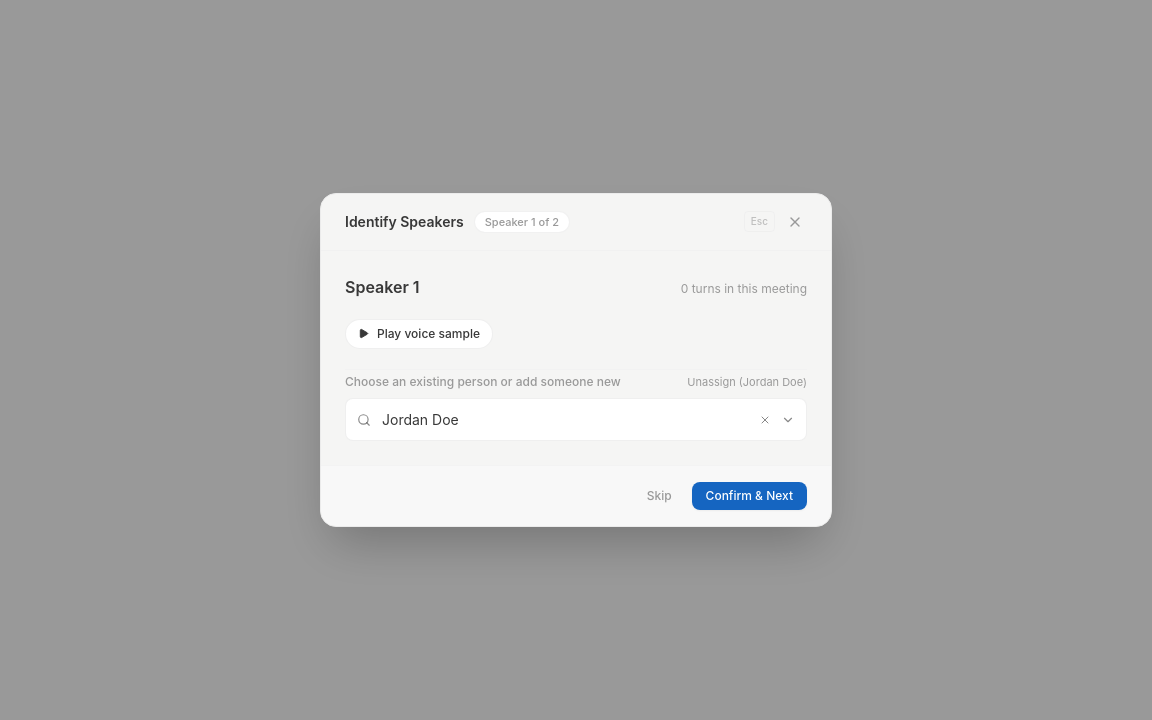
Scenario: SpeakerIdentificationModal › still explicitly confirms an automatic voice_match_strong_v1 assignment
Click the button "Confirm & Next" at (749, 496), box 692,482 -> 807,510
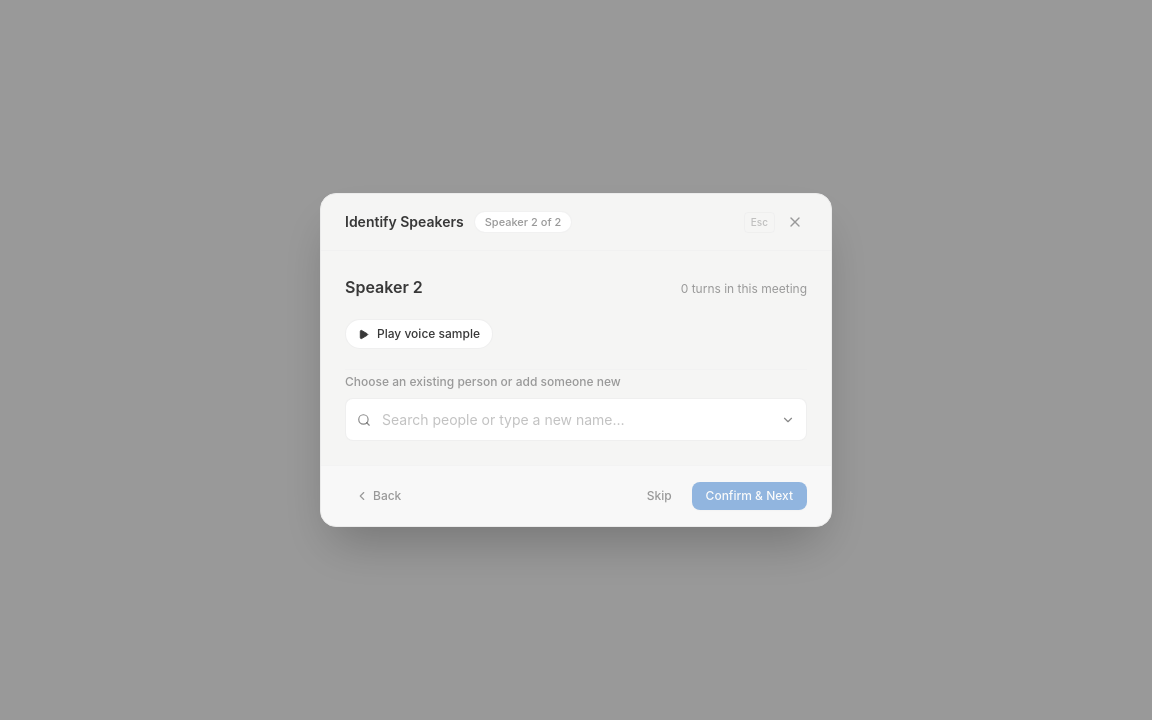
expect the text "Speaker 2 of 2" is shown: met, box 474,211 -> 572,233
